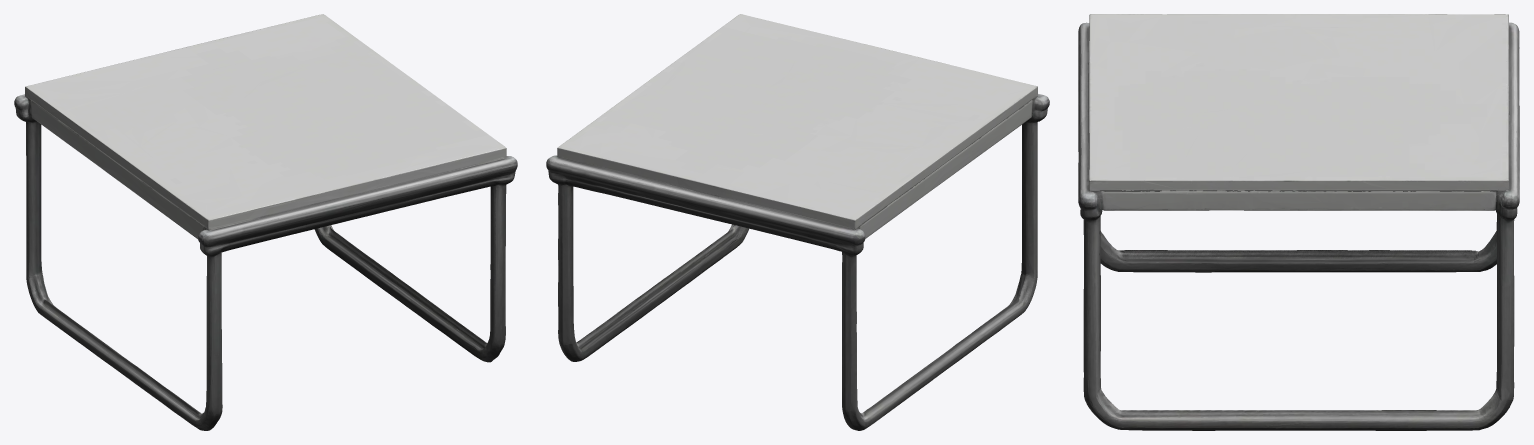
The model's file is table2.glb.
3 renders of one model, left to right at view 1: azimuth 30°, elevation 25°; view 2: azimuth 150°, elevation 25°; view 3: azimuth 270°, elevation 25°, orthographic. The views are drawn at different scales.
Parts seen in each view (by area): view 1: geometry_0; view 2: geometry_0; view 3: geometry_0.
Part boxes in pixels (x1,y1,x2,y2): geometry_0: [14, 14, 517, 430]; geometry_0: [546, 14, 1049, 430]; geometry_0: [1078, 14, 1519, 430].
Size of the model in its own units: 0.9458 by 0.6358 by 0.9986.
1 material, 1 textured.
